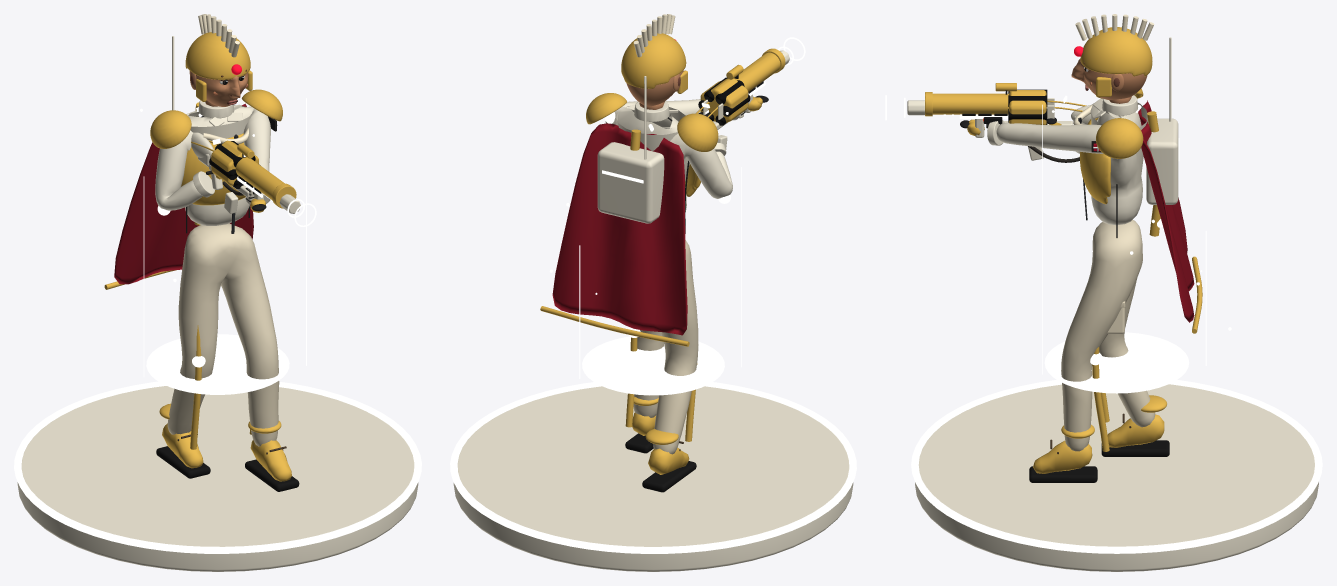
Rendered from kaster_guld.glb.
3 renders of one model, left to right at view 1: azimuth 30°, elevation 25°; view 2: azimuth 150°, elevation 25°; view 3: azimuth 270°, elevation 25°, orthographic.
Visible parts, largest first — view 1: fod_net, menneske_net, op2.001_net, op4.002_net, hoved_net, vaaben_net, op4_net; view 2: fod_net, op2.001_net, menneske_net, op4.002_net, op3.001_net, hoved_net, vaaben_net, op4_net; view 3: fod_net, menneske_net, op2.001_net, op4.002_net, hoved_net, vaaben_net, op3.001_net, op4_net.
Boxes of the visible parts, x1=… form: fod_net: x1=14, y1=381, x2=421, y2=571; menneske_net: x1=155, y1=100, x2=299, y2=491; op2.001_net: x1=104, y1=89, x2=282, y2=289; op4.002_net: x1=140, y1=98, x2=306, y2=394; hoved_net: x1=185, y1=14, x2=252, y2=106; vaaben_net: x1=191, y1=132, x2=296, y2=208; op4_net: x1=157, y1=102, x2=251, y2=449; fod_net: x1=450, y1=382, x2=856, y2=571; op2.001_net: x1=540, y1=93, x2=718, y2=346; menneske_net: x1=605, y1=95, x2=768, y2=492; op4.002_net: x1=549, y1=112, x2=741, y2=395; op3.001_net: x1=597, y1=76, x2=664, y2=223; hoved_net: x1=621, y1=14, x2=687, y2=106; vaaben_net: x1=698, y1=48, x2=785, y2=129; op4_net: x1=604, y1=112, x2=730, y2=441; fod_net: x1=911, y1=380, x2=1322, y2=571; menneske_net: x1=960, y1=95, x2=1169, y2=482; op2.001_net: x1=1073, y1=88, x2=1202, y2=333; op4.002_net: x1=1042, y1=104, x2=1231, y2=393; hoved_net: x1=1071, y1=14, x2=1154, y2=100; vaaben_net: x1=925, y1=83, x2=1123, y2=137; op3.001_net: x1=1135, y1=37, x2=1179, y2=204; op4_net: x1=1090, y1=111, x2=1162, y2=451.
Size of the model in its own units: 1.94 by 2.45 by 2.06.
